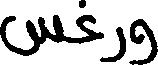X: (0, 10, 63, 60), (78, 0, 101, 64), (131, 14, 157, 64), (103, 22, 125, 64)
